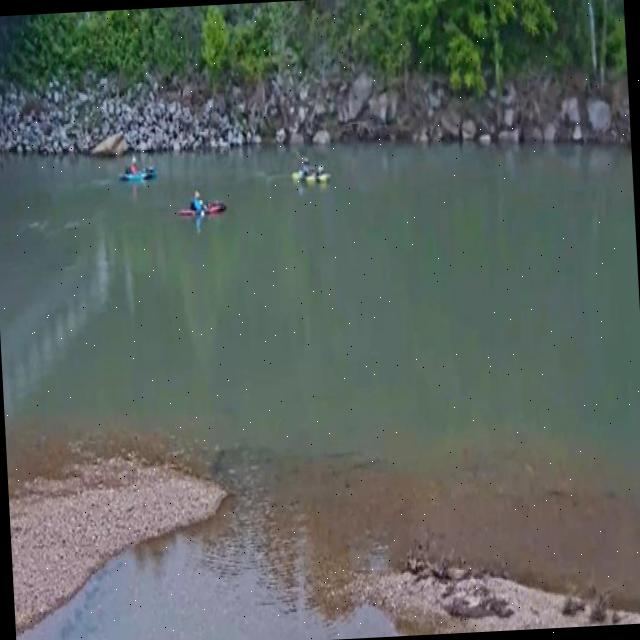kayak: (292, 158, 331, 185), (120, 157, 156, 183), (204, 201, 227, 216), (179, 209, 196, 219)
